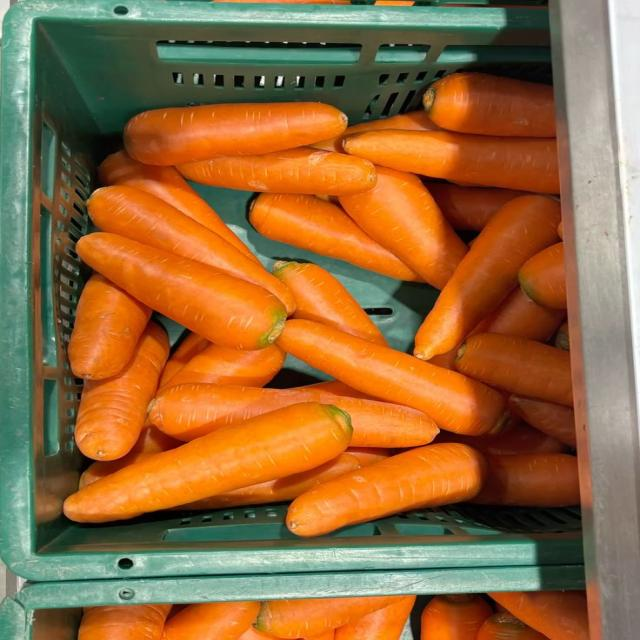carrot: (65, 403, 352, 522), (87, 186, 294, 314), (279, 320, 506, 435), (76, 233, 286, 349), (414, 196, 560, 359), (287, 443, 486, 536), (149, 384, 438, 447), (99, 151, 259, 263), (340, 168, 467, 289), (249, 194, 420, 281), (124, 103, 347, 165), (344, 130, 559, 193), (75, 323, 168, 460), (180, 453, 359, 510), (177, 147, 376, 195), (274, 261, 386, 345), (68, 274, 151, 380), (423, 73, 555, 138), (456, 334, 573, 406), (79, 421, 183, 487), (256, 596, 403, 638), (471, 454, 579, 507), (467, 287, 565, 341), (313, 111, 439, 152), (165, 344, 286, 386), (489, 592, 589, 639), (427, 183, 524, 230), (482, 288, 565, 341), (435, 423, 566, 455), (163, 601, 259, 639), (509, 396, 576, 448), (335, 596, 415, 639), (421, 594, 492, 639), (78, 605, 171, 639), (519, 243, 566, 309), (159, 333, 210, 387), (79, 452, 153, 489), (478, 612, 547, 639), (131, 421, 182, 454), (293, 380, 375, 399), (347, 447, 392, 467), (427, 347, 458, 370), (211, 0, 351, 5), (239, 627, 278, 639), (555, 322, 569, 350), (300, 630, 335, 639), (558, 220, 564, 240)
